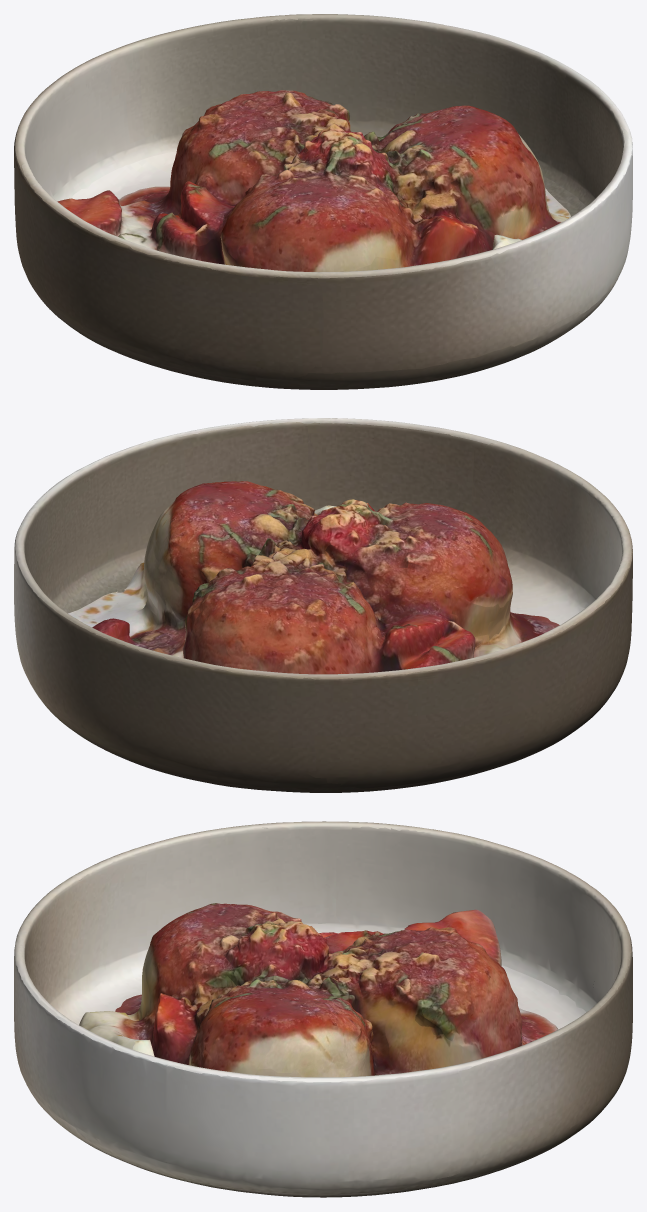
Rendered from set2.ricotta001.glb.
The picture shows the model from 3 angles, top to bottom: view 1: azimuth 30°, elevation 25°; view 2: azimuth 150°, elevation 25°; view 3: azimuth 270°, elevation 25°; orthographic projection.
Parts seen in each view (by area): view 1: /Root/Scenes/Scene/Object_37/Object_41/Object_42/Submesh_0, /Root/Scenes/Scene/Object_37/Object_38/Submesh_0; view 2: /Root/Scenes/Scene/Object_37/Object_41/Object_42/Submesh_0, /Root/Scenes/Scene/Object_37/Object_38/Submesh_0; view 3: /Root/Scenes/Scene/Object_37/Object_41/Object_42/Submesh_0, /Root/Scenes/Scene/Object_37/Object_38/Submesh_0.
Part boxes in pixels (bbox=[...]): /Root/Scenes/Scene/Object_37/Object_41/Object_42/Submesh_0: bbox=[14, 14, 632, 389]; /Root/Scenes/Scene/Object_37/Object_38/Submesh_0: bbox=[57, 90, 570, 271]; /Root/Scenes/Scene/Object_37/Object_41/Object_42/Submesh_0: bbox=[14, 418, 632, 792]; /Root/Scenes/Scene/Object_37/Object_38/Submesh_0: bbox=[68, 481, 559, 674]; /Root/Scenes/Scene/Object_37/Object_41/Object_42/Submesh_0: bbox=[14, 821, 632, 1197]; /Root/Scenes/Scene/Object_37/Object_38/Submesh_0: bbox=[79, 903, 557, 1077].
Size of the model in its own units: 0.2 by 0.0572 by 0.1999.
2 materials, 2 textured.
